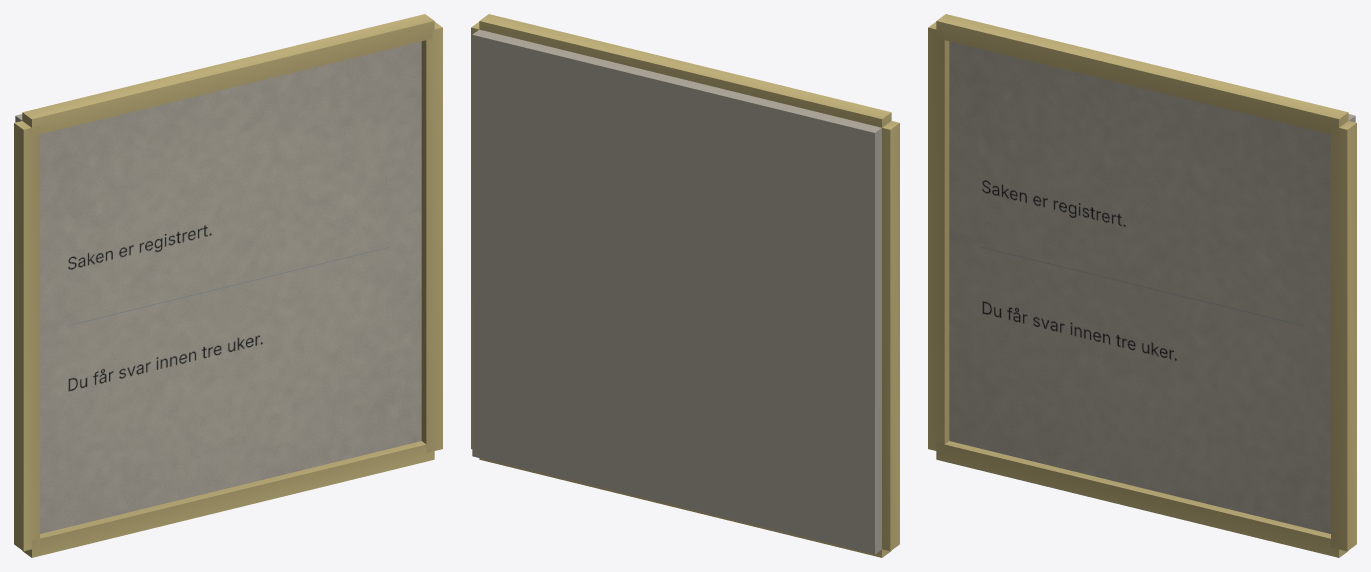
Rendered from gallery_divider.glb.
The picture shows the model from 3 angles, left to right: view 1: azimuth 30°, elevation 25°; view 2: azimuth 150°, elevation 25°; view 3: azimuth 330°, elevation 25°; orthographic projection.
Parts seen in each view (by area): view 1: plate; view 2: plate; view 3: plate.
Part boxes in pixels (x1,y1,x2,y2): plate: (14,14,442,557); plate: (471,14,899,557); plate: (928,14,1356,557).
Bounding box in the file's own units: 0.51 × 0.51 × 0.035.
2 materials, 1 textured.
